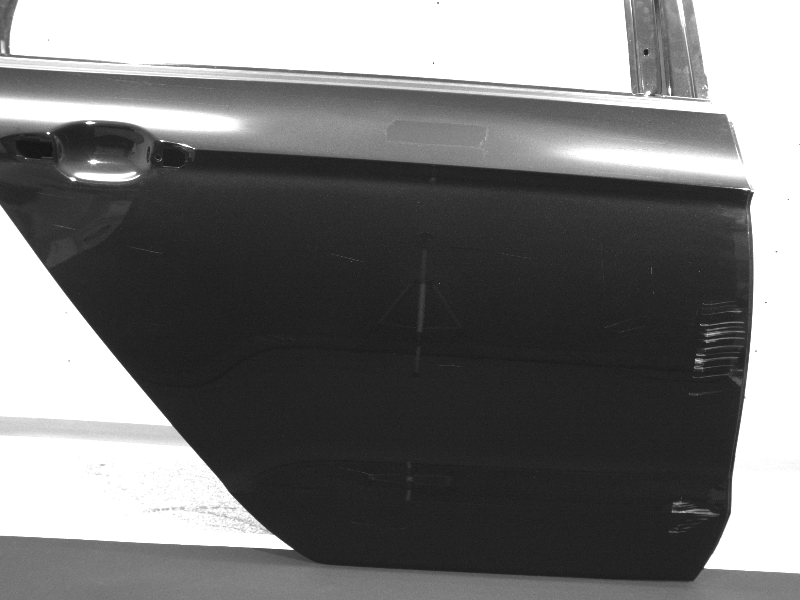scratch: (687, 300, 745, 398), (667, 499, 720, 534), (603, 318, 648, 333), (124, 244, 162, 255), (326, 253, 365, 262), (337, 466, 372, 476), (647, 262, 656, 296), (37, 191, 70, 200), (501, 251, 533, 260), (351, 520, 378, 527), (54, 224, 77, 231), (436, 364, 462, 369)
